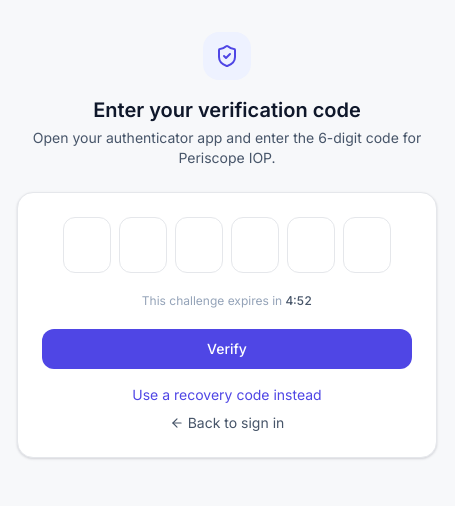
TotpLoginPage › shows validation error when submitting empty code
The image size is (455, 506).
Click the button "Verify". click: [227, 349]
box: left=42, top=329, right=412, bottom=369
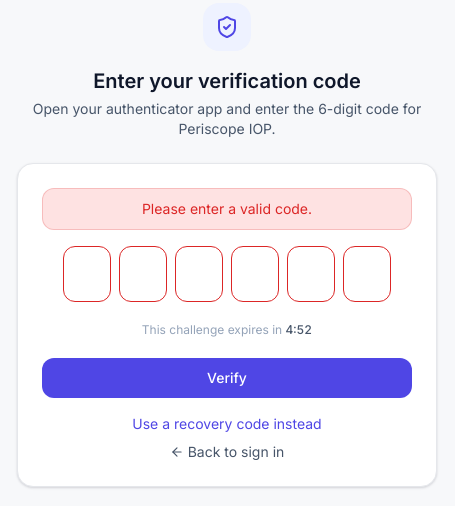
Now the text "Please enter a valid code." is shown, box left=42, top=188, right=412, bottom=230
